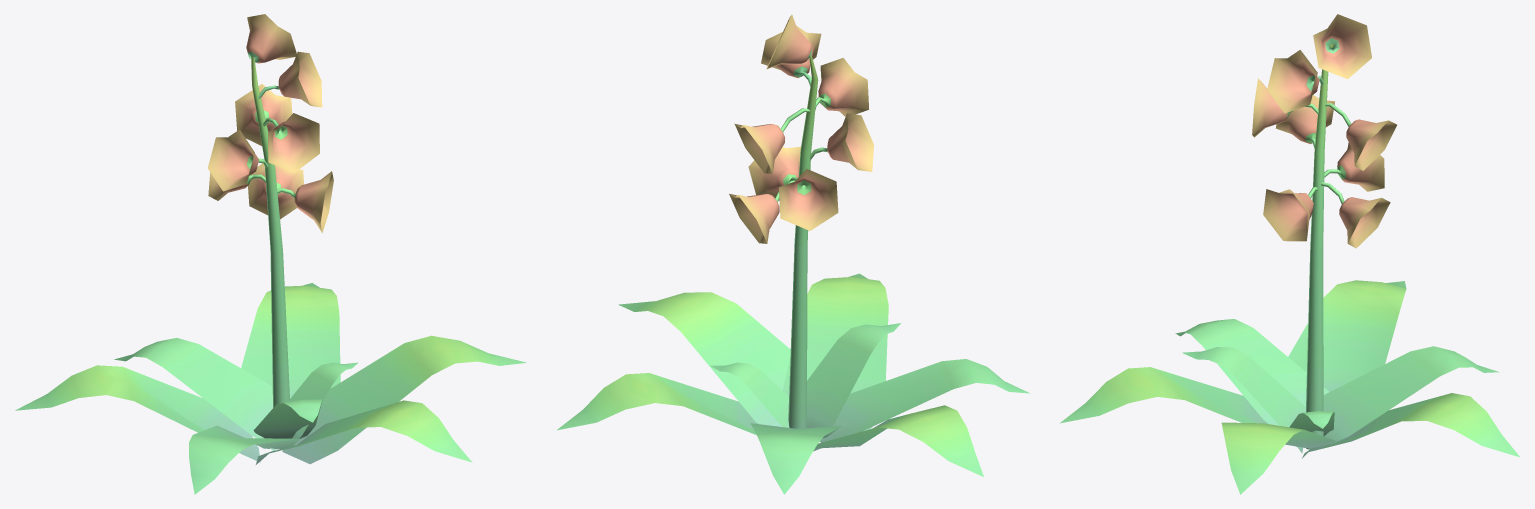
File: Flower.003_Base_Material_0.fbx
3 views of the same model, side by side, from view 1: azimuth 30°, elevation 25°; view 2: azimuth 150°, elevation 25°; view 3: azimuth 270°, elevation 25° (orthographic). The views are drawn at different scales.
Visible parts, largest first — view 1: Flower.003_Base_Material_0_export; view 2: Flower.003_Base_Material_0_export; view 3: Flower.003_Base_Material_0_export.
Part boxes in pixels (left/top/right/bottom): Flower.003_Base_Material_0_export: left=15, top=14, right=526, bottom=494; Flower.003_Base_Material_0_export: left=557, top=14, right=1029, bottom=494; Flower.003_Base_Material_0_export: left=1060, top=14, right=1520, bottom=494.
Bounding box in the file's own units: 2.44 × 2.28 × 2.21.
